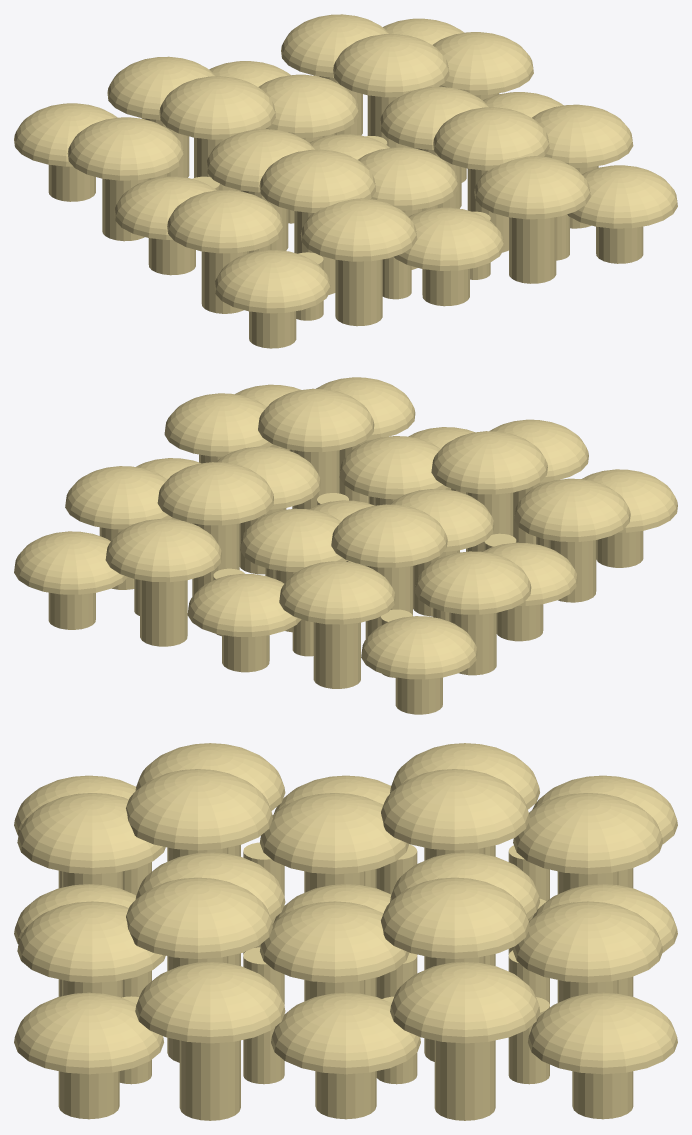
Rendered from Flammulina velutipesCUT2.fbx.
The picture shows the model from 3 angles, top to bottom: view 1: azimuth 30°, elevation 25°; view 2: azimuth 150°, elevation 25°; view 3: azimuth 270°, elevation 25°; orthographic projection. The views are drawn at different scales.
Parts seen in each view (by area): view 1: polySurface1; view 2: polySurface1; view 3: polySurface1.
Part boxes in pixels (box(x1,y1,x2,y2)): polySurface1: box(14, 14, 677, 348); polySurface1: box(14, 377, 677, 714); polySurface1: box(14, 743, 677, 1120).
Size of the model in its own units: 1.3 by 0.3517 by 1.29.
